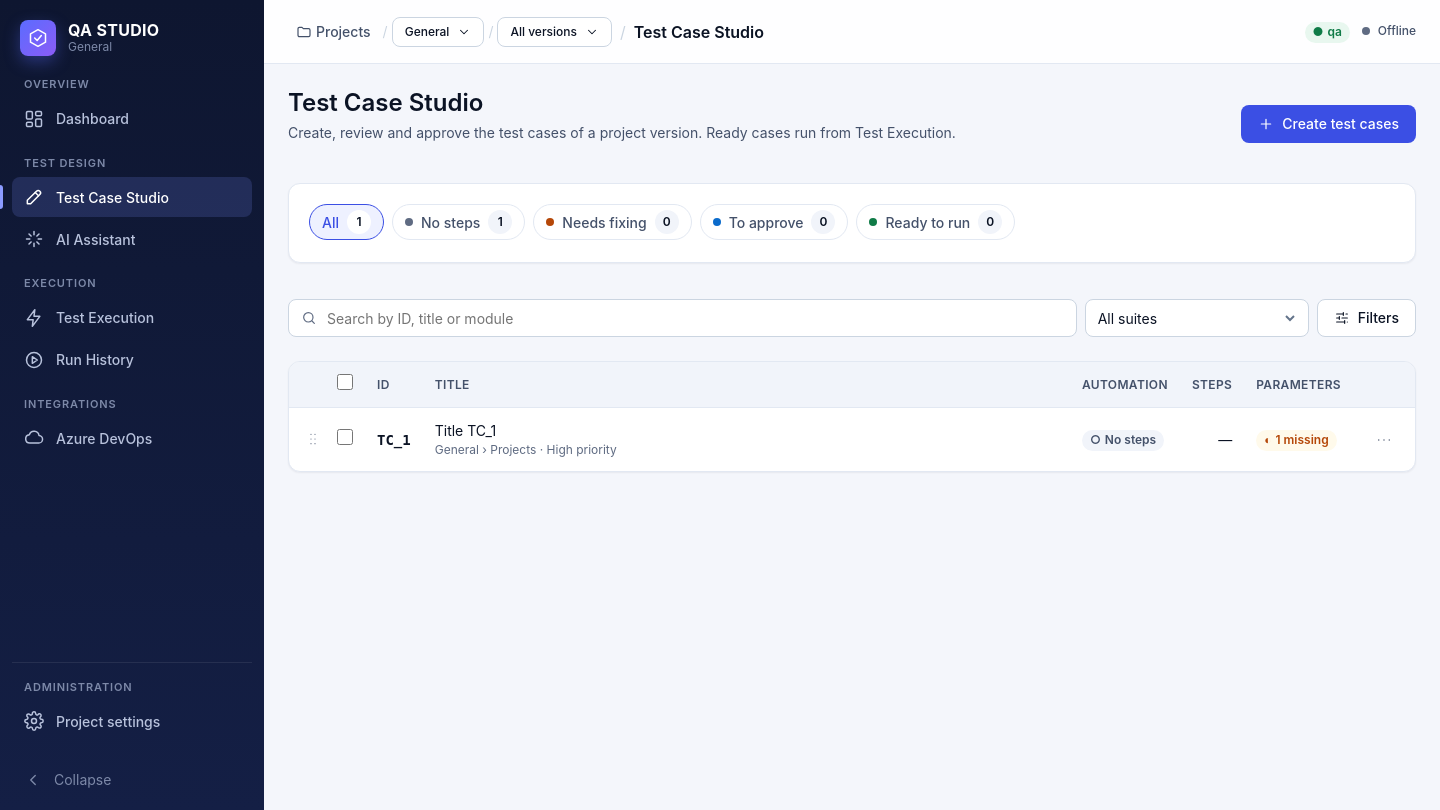
Test: filing test cases › moves selected cases to another suite
Click the checkbox named "Select TC_1": (345, 437) [337,429,353,445]
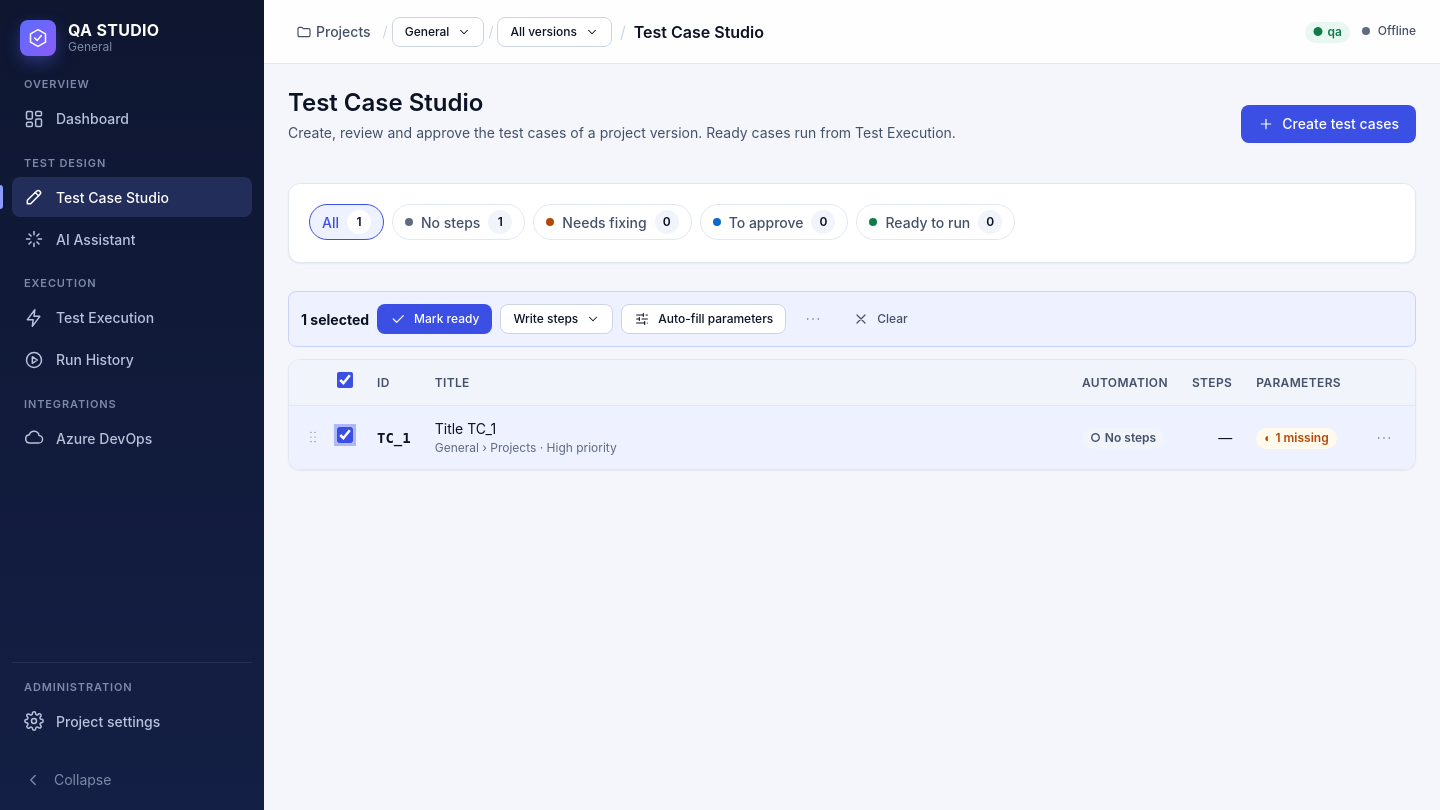
Click the button named "More actions": (813, 319) [794,300,832,338]
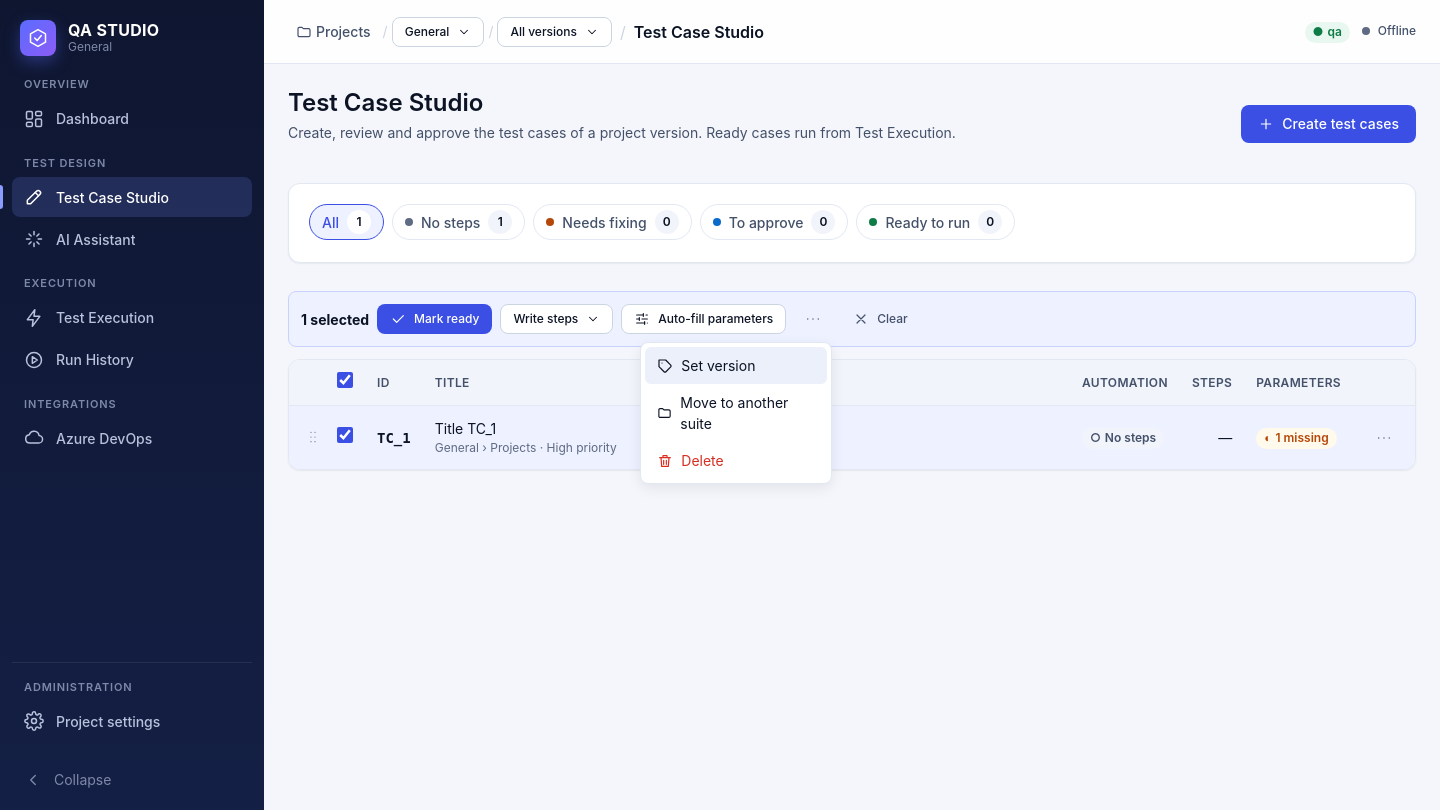
Click the menu item "Move to another suite": (736, 413) [645,384,827,442]
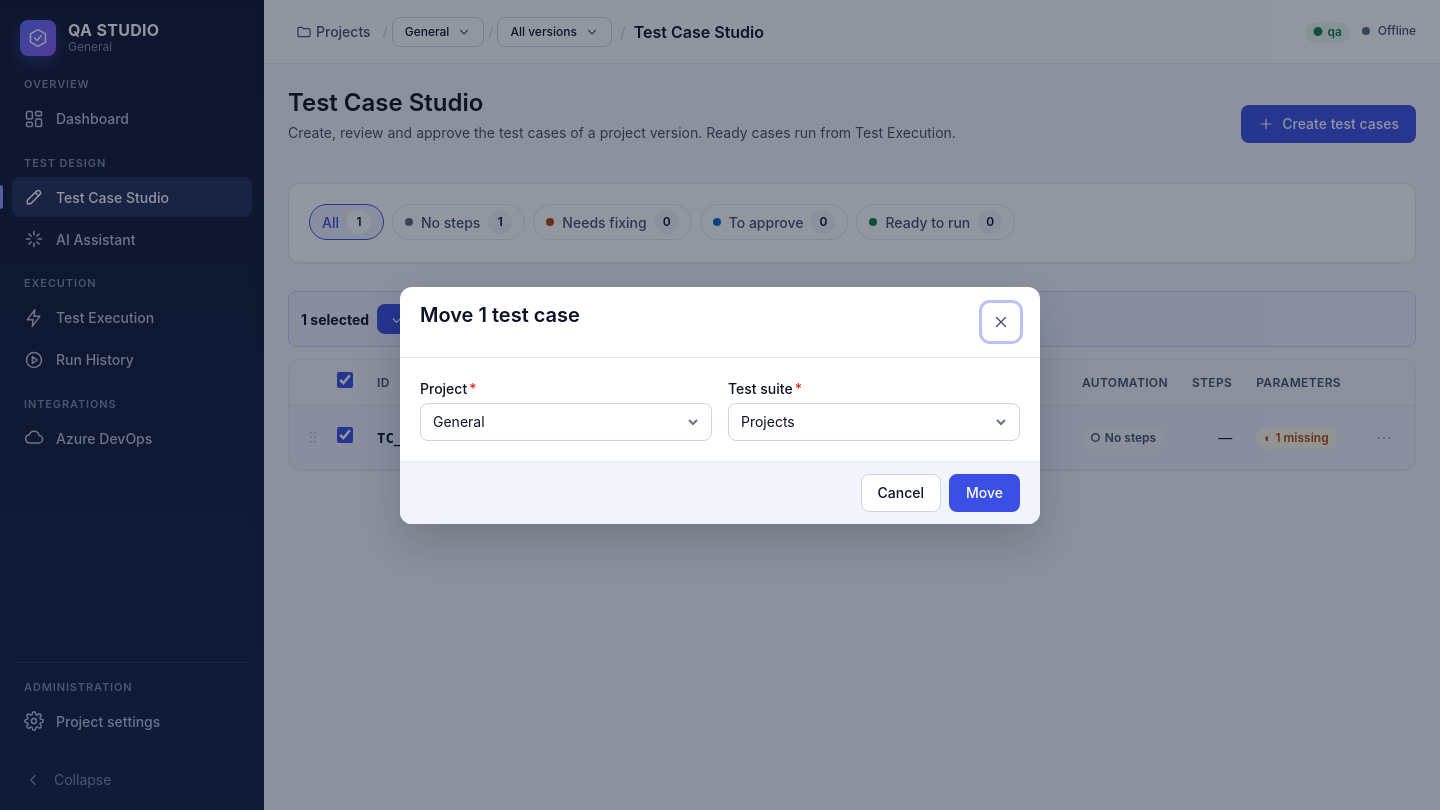
Select "Capex" in the dropdown labelled "Project*": (566, 422) [420,402,712,440]
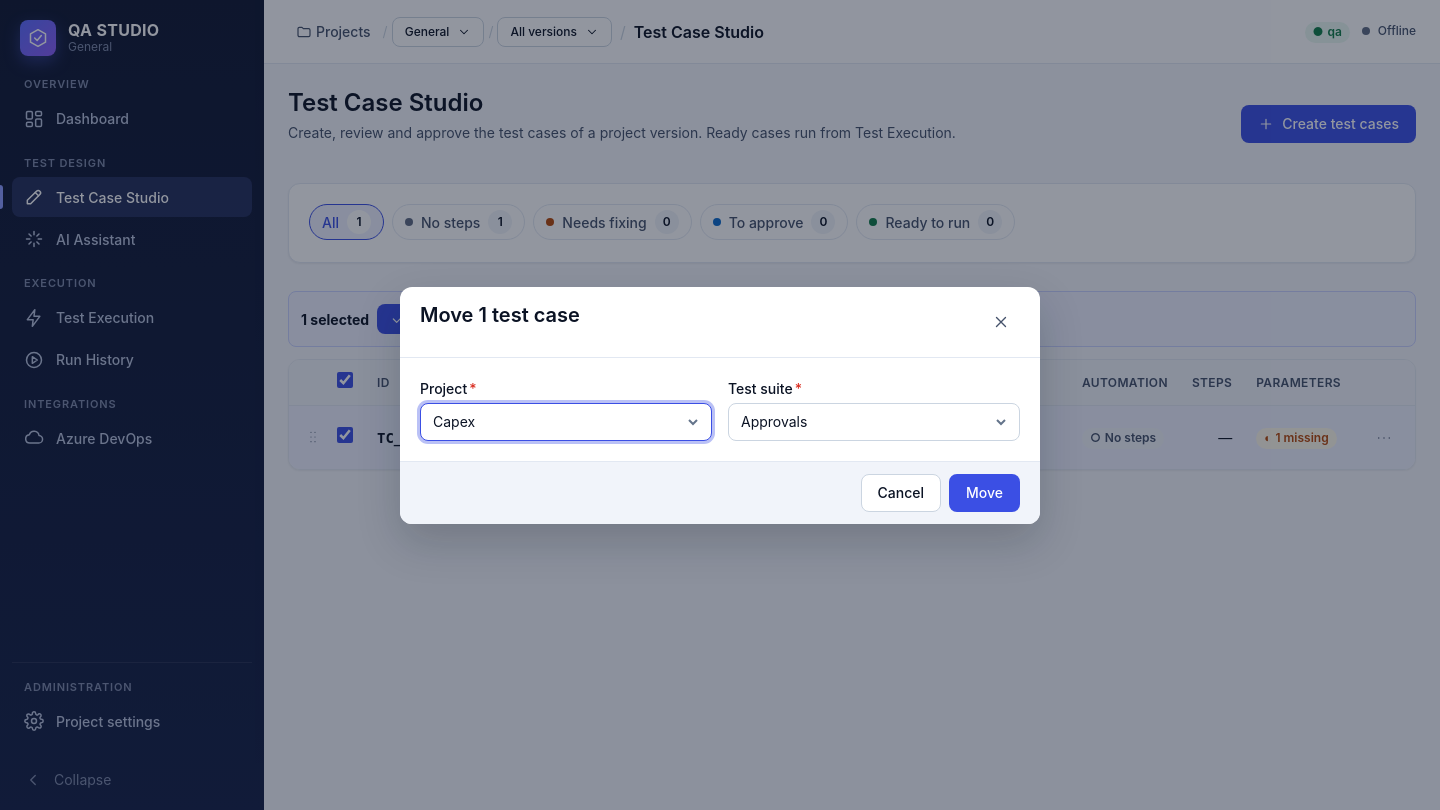
Click the button "Move": (984, 492) [949,474,1020,512]
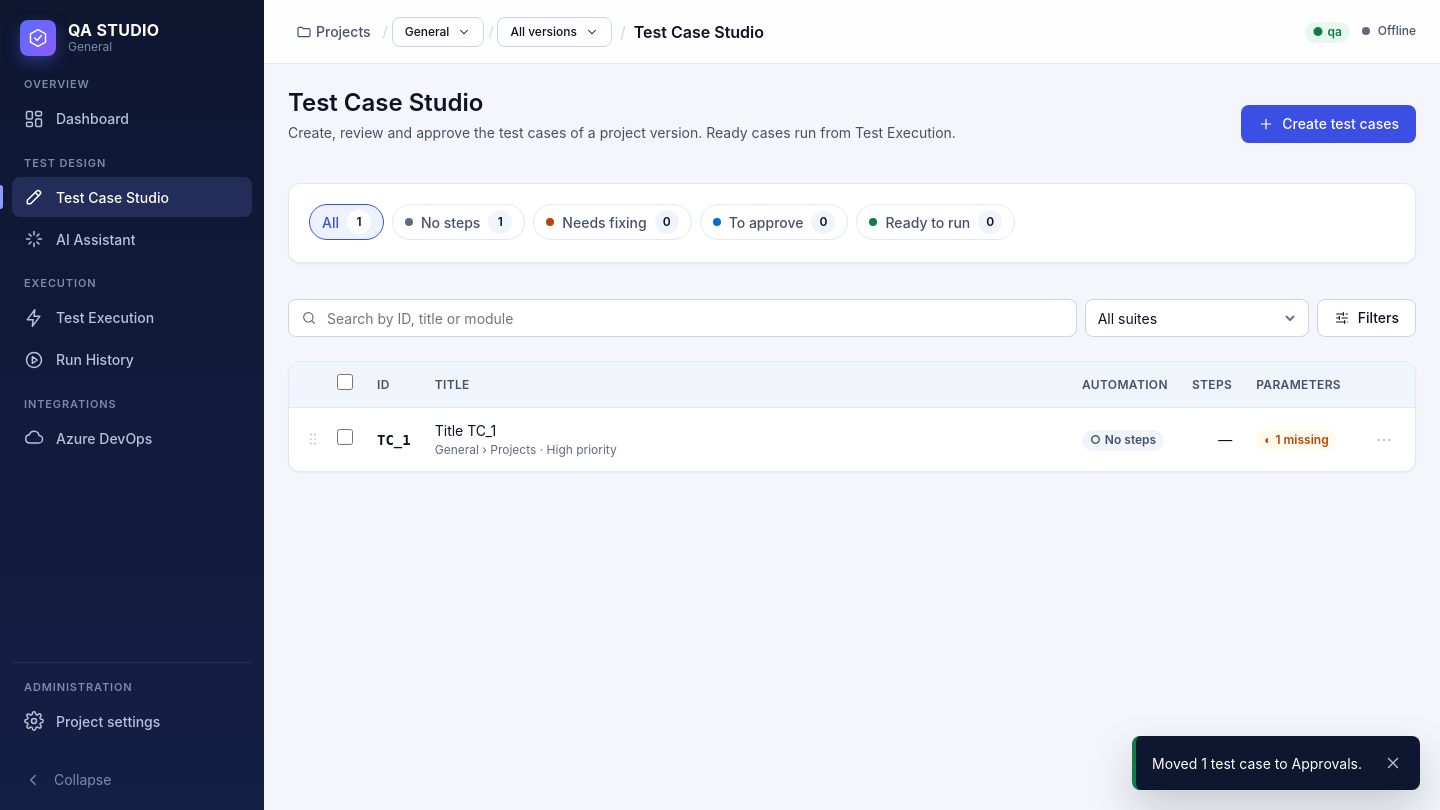
expect the text "Moved 1 test case to Approvals." is shown: met, box [1152,752,1362,774]
